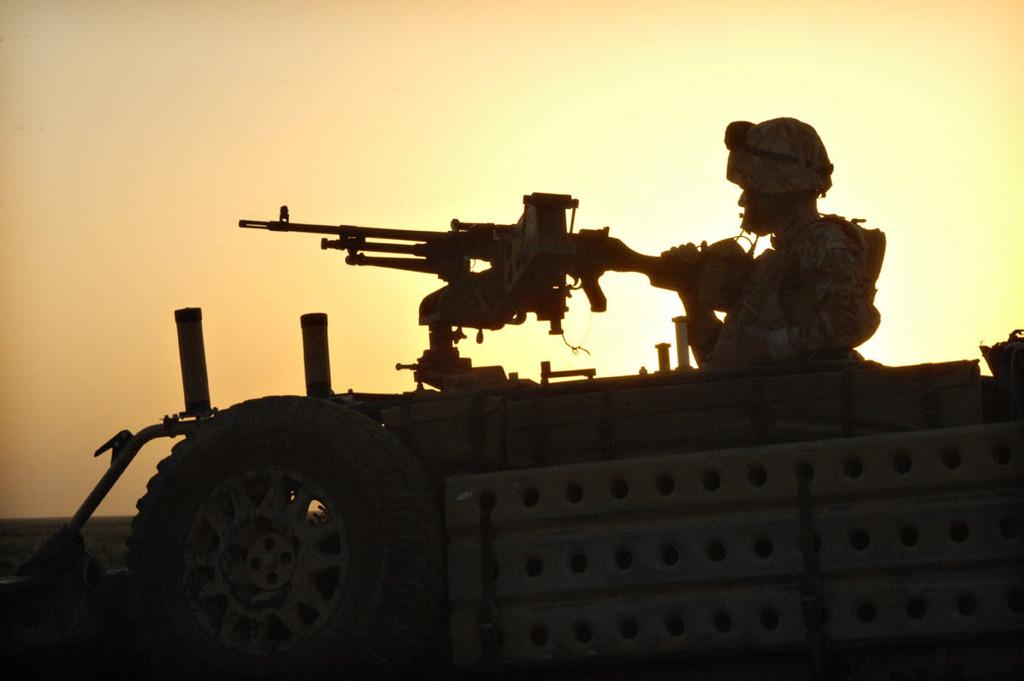Rifle: (238, 191, 753, 390)
